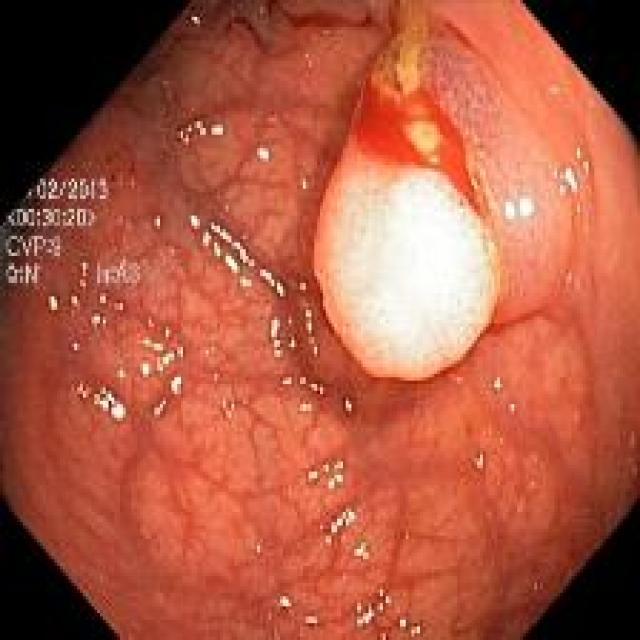Polyps: (314, 4, 590, 379)
